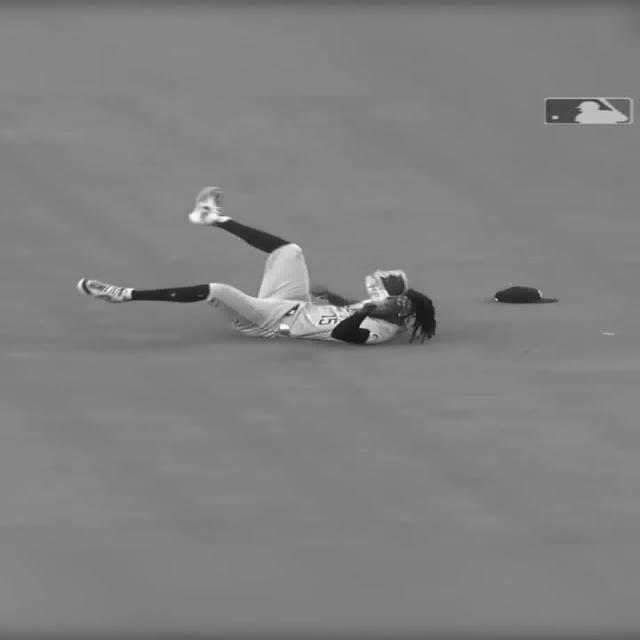baseball_glove: (364, 270, 418, 308)
shoe: (192, 184, 232, 228), (78, 280, 132, 305)
